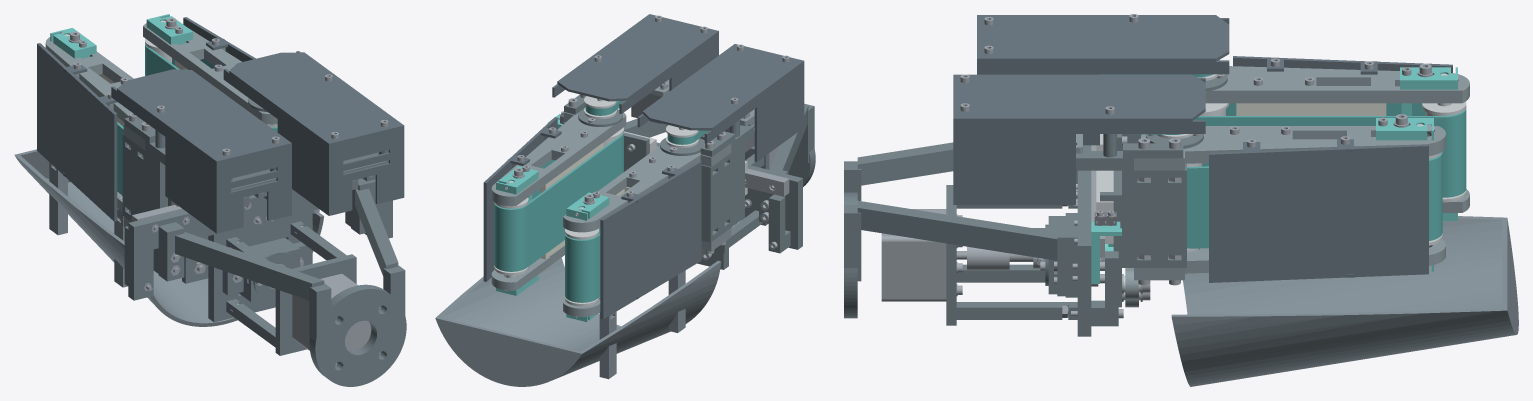
Rendered from inaho_gripper_v5_assembly.glb.
3 renders of one model, left to right at view 1: azimuth 30°, elevation 25°; view 2: azimuth 150°, elevation 25°; view 3: azimuth 270°, elevation 25°, orthographic. The views are drawn at different scales.
Parts seen in each view (by area): view 1: L_C14_rear_drive_cover, R_C14_rear_drive_cover, A01_rear_fixture_adapter, L_C13_outer_finger_cover, F01_rear_rail_backbone, L_T01_sloped_receiver, F07_opening_motor_yoke, L_C01_carriage_saddle, R_C02_upper_deck, L_C02_upper_deck, H06_opening_motor, F04_opening_bearing_tower (+8 smaller); view 2: L_T01_sloped_receiver, L_C14_rear_drive_cover, L_C13_outer_finger_cover, R_C14_rear_drive_cover, R_C07_contact_belt_TPU, R_C02_upper_deck, L_C01_carriage_saddle, L_C02_upper_deck, A01_rear_fixture_adapter, L_C07_contact_belt_TPU, R_C13_outer_finger_cover, F01_rear_rail_backbone (+15 smaller); view 3: L_T01_sloped_receiver, R_C13_outer_finger_cover, R_C14_rear_drive_cover, L_C14_rear_drive_cover, A01_rear_fixture_adapter, L_C02_upper_deck, R_C01_carriage_saddle, R_C02_upper_deck, F07_opening_motor_yoke, H06_opening_motor, L_C07_contact_belt_TPU, R_C07_contact_belt_TPU (+13 smaller).
Boxes of the visible parts, x1,y1,x2,y2 form: L_C14_rear_drive_cover: (111, 68, 291, 233); R_C14_rear_drive_cover: (223, 51, 404, 215); A01_rear_fixture_adapter: (158, 178, 406, 386); L_C13_outer_finger_cover: (37, 43, 117, 221); F01_rear_rail_backbone: (128, 179, 392, 322); L_T01_sloped_receiver: (14, 149, 323, 326); F07_opening_motor_yoke: (226, 221, 356, 355); L_C01_carriage_saddle: (122, 134, 208, 283); R_C02_upper_deck: (143, 23, 277, 124); L_C02_upper_deck: (45, 37, 144, 150); H06_opening_motor: (292, 274, 371, 350); F04_opening_bearing_tower: (222, 238, 308, 301); L_T01_sloped_receiver: (435, 257, 721, 386); L_C14_rear_drive_cover: (637, 44, 804, 161); L_C13_outer_finger_cover: (600, 161, 701, 319); R_C14_rear_drive_cover: (552, 14, 718, 113); R_C07_contact_belt_TPU: (494, 132, 623, 271); R_C02_upper_deck: (491, 108, 626, 206); L_C01_carriage_saddle: (701, 143, 744, 252); L_C02_upper_deck: (563, 138, 731, 232); A01_rear_fixture_adapter: (624, 103, 815, 186); L_C07_contact_belt_TPU: (565, 233, 600, 302); R_C13_outer_finger_cover: (483, 117, 561, 281); F01_rear_rail_backbone: (656, 142, 802, 269); L_T01_sloped_receiver: (1171, 216, 1518, 386); R_C13_outer_finger_cover: (1209, 139, 1428, 282); R_C14_rear_drive_cover: (953, 74, 1205, 204); L_C14_rear_drive_cover: (977, 15, 1229, 145); A01_rear_fixture_adapter: (844, 142, 1077, 318); L_C02_upper_deck: (1205, 66, 1469, 103); R_C01_carriage_saddle: (1100, 163, 1186, 307); R_C02_upper_deck: (1134, 126, 1445, 170); F07_opening_motor_yoke: (946, 185, 1077, 325); H06_opening_motor: (881, 209, 966, 301); L_C07_contact_belt_TPU: (1195, 103, 1466, 197); R_C07_contact_belt_TPU: (1187, 152, 1442, 248).
Bounding box in the file's own units: 0.21 × 0.1989 × 0.3957.
